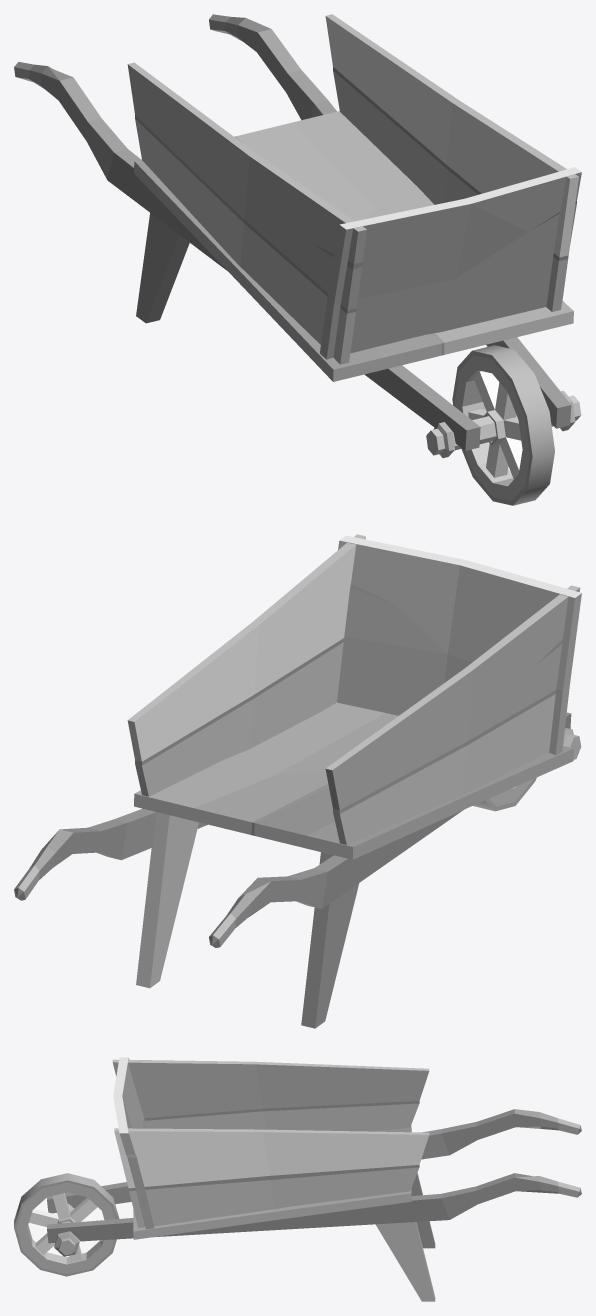
The model's file is PT_Wheelbarrow_02.fbx.
3 views of the same model, one above another, from view 1: azimuth 30°, elevation 25°; view 2: azimuth 150°, elevation 25°; view 3: azimuth 270°, elevation 25° (orthographic). The views are drawn at different scales.
Parts seen in each view (by area): view 1: PT_Wheelbarrow_02_main, PT_Wheelbarrow_02_wheel; view 2: PT_Wheelbarrow_02_main, PT_Wheelbarrow_02_wheel; view 3: PT_Wheelbarrow_02_main, PT_Wheelbarrow_02_wheel.
Boxes of the visible parts, bbox=[...] form: PT_Wheelbarrow_02_main: bbox=[14, 14, 581, 450]; PT_Wheelbarrow_02_wheel: bbox=[426, 345, 581, 505]; PT_Wheelbarrow_02_main: bbox=[14, 534, 581, 1028]; PT_Wheelbarrow_02_wheel: bbox=[473, 728, 581, 811]; PT_Wheelbarrow_02_main: bbox=[47, 1057, 581, 1301]; PT_Wheelbarrow_02_wheel: bbox=[14, 1173, 119, 1276].
Size of the model in its own units: 57.4 by 61.21 by 177.
1 material, 1 textured.
